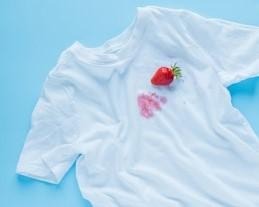gun: (138, 88, 163, 118)
